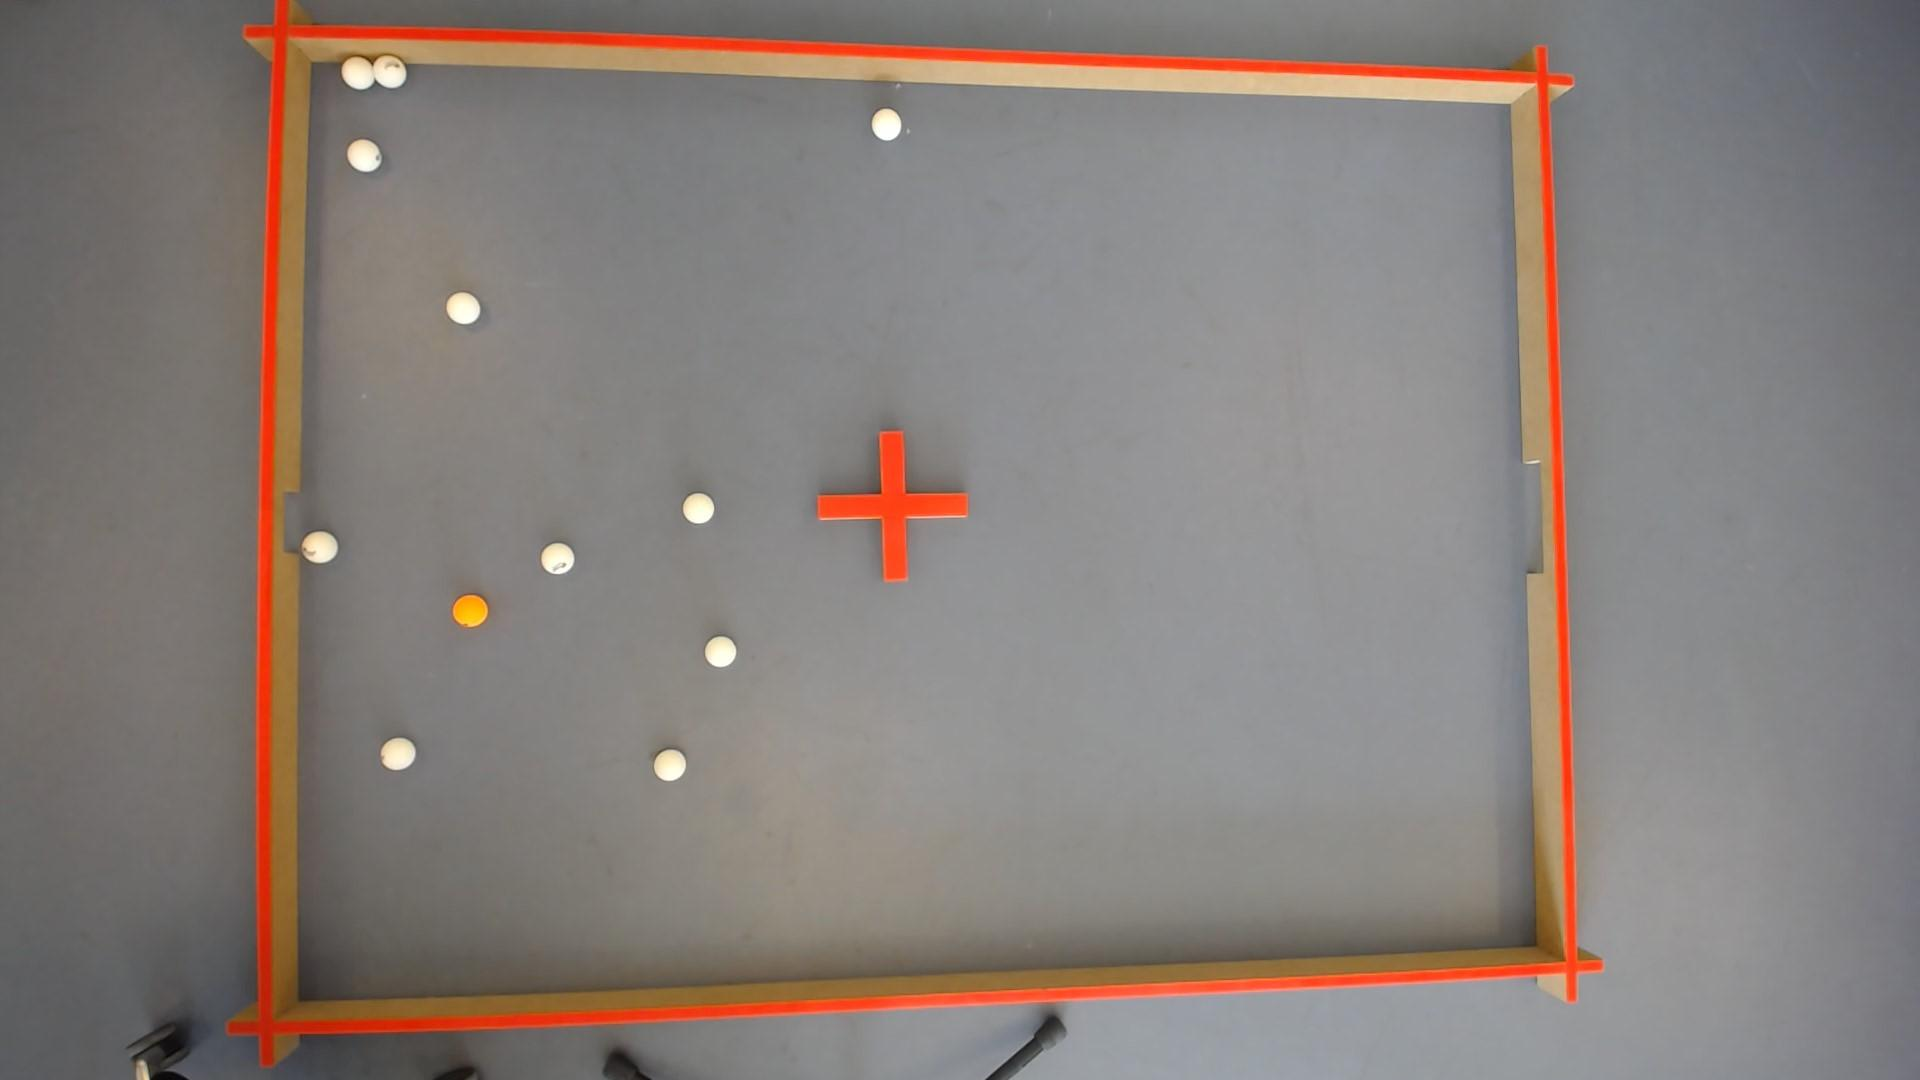orange: (451, 593, 487, 626)
white: (298, 530, 336, 563), (344, 136, 380, 170), (339, 53, 373, 87), (371, 51, 405, 86), (651, 748, 686, 782), (444, 290, 479, 323), (380, 737, 414, 770), (539, 542, 574, 574), (872, 105, 903, 138), (704, 636, 737, 667), (682, 492, 713, 522)
